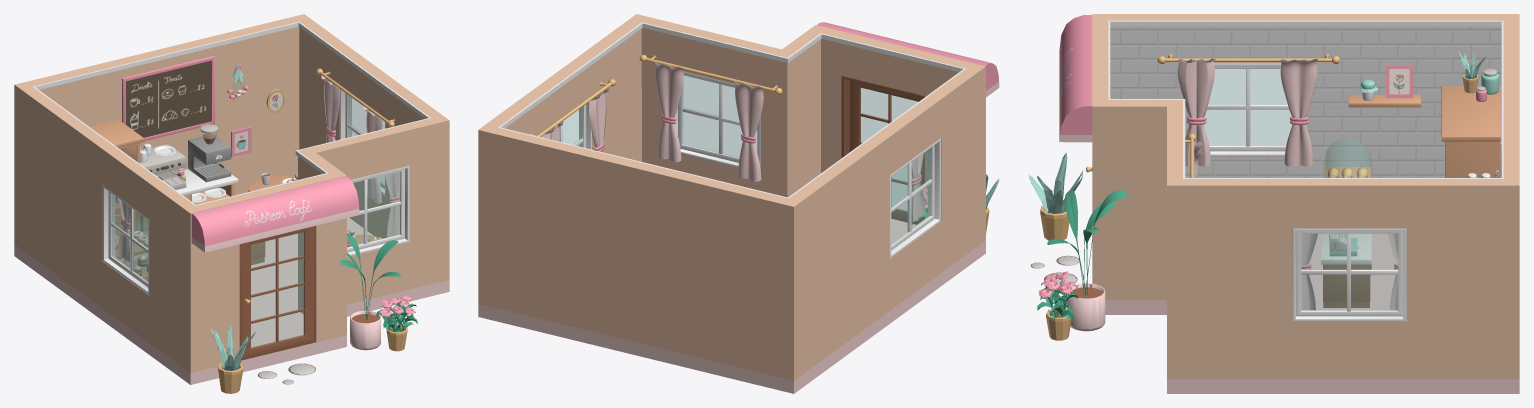
File: pusheen_cafe.glb
The picture shows the model from 3 angles, left to right: view 1: azimuth 30°, elevation 25°; view 2: azimuth 150°, elevation 25°; view 3: azimuth 270°, elevation 25°; orthographic projection. The views are drawn at different scales.
Visible parts, largest first — view 1: parede_Parede_0, object 25, Banner_Banner_0, Quadro_Mural_0, vidro_porta_Vidros_0, arco_porta_Porta_0, object 460, Line010_Vidros_0, Line001_Janelas_0, Line003_Vidros_0, Line008_Janelas_0, Box013_Cafeteira_pequena_0 (+16 smaller); view 2: parede_Parede_0, object 25, object 460, Line010_Vidros_0, arco_porta_Porta_0, Line003_Vidros_0, Line001_Janelas_0, vidro_porta_Vidros_0, Line008_Janelas_0, cortina-006_Cortinas_0, cortina-005_Cortinas_0, Banner_Banner_0 (+5 smaller); view 3: parede_Parede_0, Parede_tijolinhos_Parede-Tijolinhos_0, object 25, Line006_Vidros_0, Line003_Vidros_0, Armario_Estantes_0, Line004_Janelas_0, Banner_Banner_0, object 460, cortina-02_Cortinas_0, cortina-01_Cortinas_0, Line001_Janelas_0 (+15 smaller).
Part boxes in pixels (x1,y1,x2,y2): parede_Parede_0: (14, 14, 449, 372); object 25: (14, 218, 449, 384); Banner_Banner_0: (191, 176, 359, 252); Quadro_Mural_0: (126, 60, 211, 137); vidro_porta_Vidros_0: (251, 232, 303, 347); arco_porta_Porta_0: (239, 225, 316, 360); object 460: (33, 21, 430, 205); Line010_Vidros_0: (347, 172, 399, 247); Line001_Janelas_0: (102, 185, 149, 295); Line003_Vidros_0: (111, 194, 147, 282); Line008_Janelas_0: (347, 165, 409, 257); Box013_Cafeteira_pequena_0: (188, 136, 231, 182); parede_Parede_0: (478, 14, 985, 380); object 25: (478, 219, 985, 393); object 460: (498, 22, 965, 198); Line010_Vidros_0: (682, 75, 756, 157); arco_porta_Porta_0: (841, 76, 924, 224); Line003_Vidros_0: (891, 147, 931, 244); Line001_Janelas_0: (890, 138, 940, 258); vidro_porta_Vidros_0: (860, 88, 917, 210); Line008_Janelas_0: (674, 71, 760, 172); cortina-006_Cortinas_0: (732, 80, 763, 181); cortina-005_Cortinas_0: (653, 60, 683, 162); Banner_Banner_0: (817, 22, 999, 97); parede_Parede_0: (1092, 14, 1519, 379); Parede_tijolinhos_Parede-Tijolinhos_0: (1110, 26, 1501, 177); object 25: (1105, 233, 1519, 393); Line006_Vidros_0: (1301, 234, 1397, 310); Line003_Vidros_0: (1204, 69, 1291, 145); Armario_Estantes_0: (1441, 86, 1501, 177); Line004_Janelas_0: (1292, 228, 1406, 321); Banner_Banner_0: (1059, 15, 1092, 142); object 460: (1108, 20, 1503, 178); cortina-02_Cortinas_0: (1280, 59, 1318, 166); cortina-01_Cortinas_0: (1177, 58, 1215, 166); Line001_Janelas_0: (1207, 63, 1289, 156).
Size of the model in its own units: 1.65 by 0.9366 by 2.
Materials: 21 (6 with a texture image).
